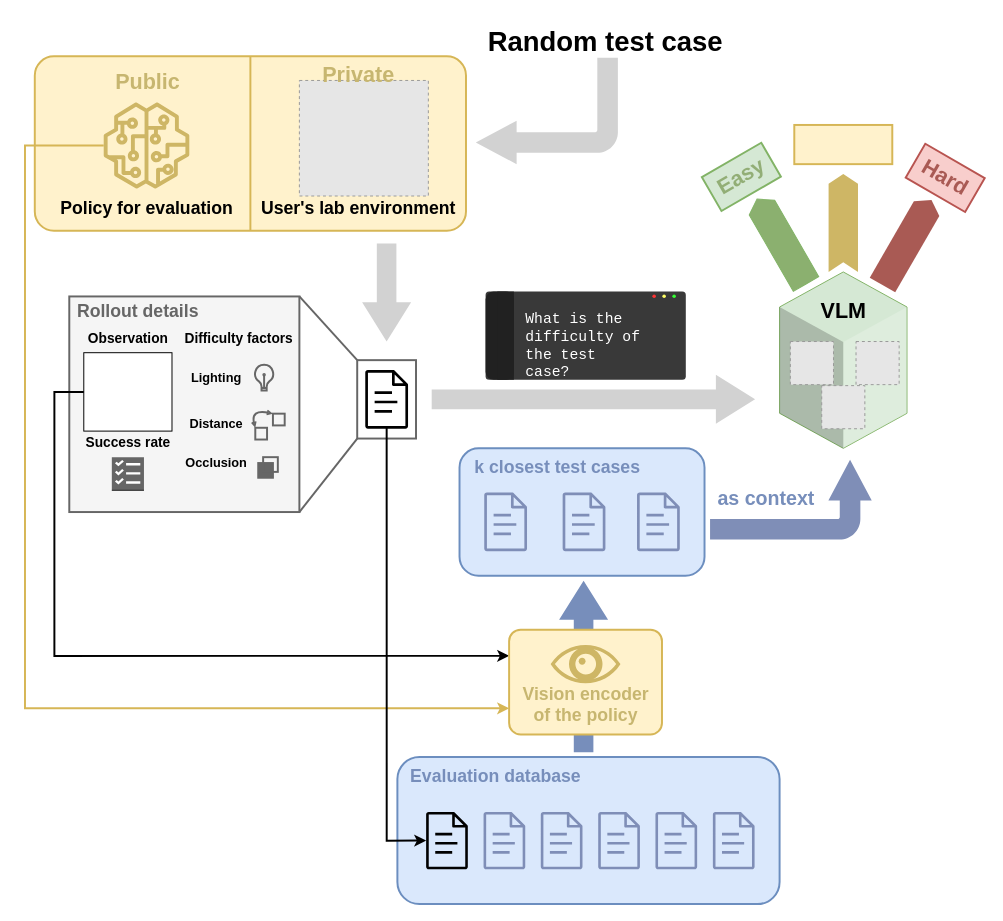
The diagram is 1003 pixels wide and 921 high, and some of its shapes have lost their labels. Grey dashed boxes stand in for pictures. Here are the shapes that lost their labels. From the top down, the centre of each, then its label:
point (843, 144): Medium
point (127, 391): <figure>
